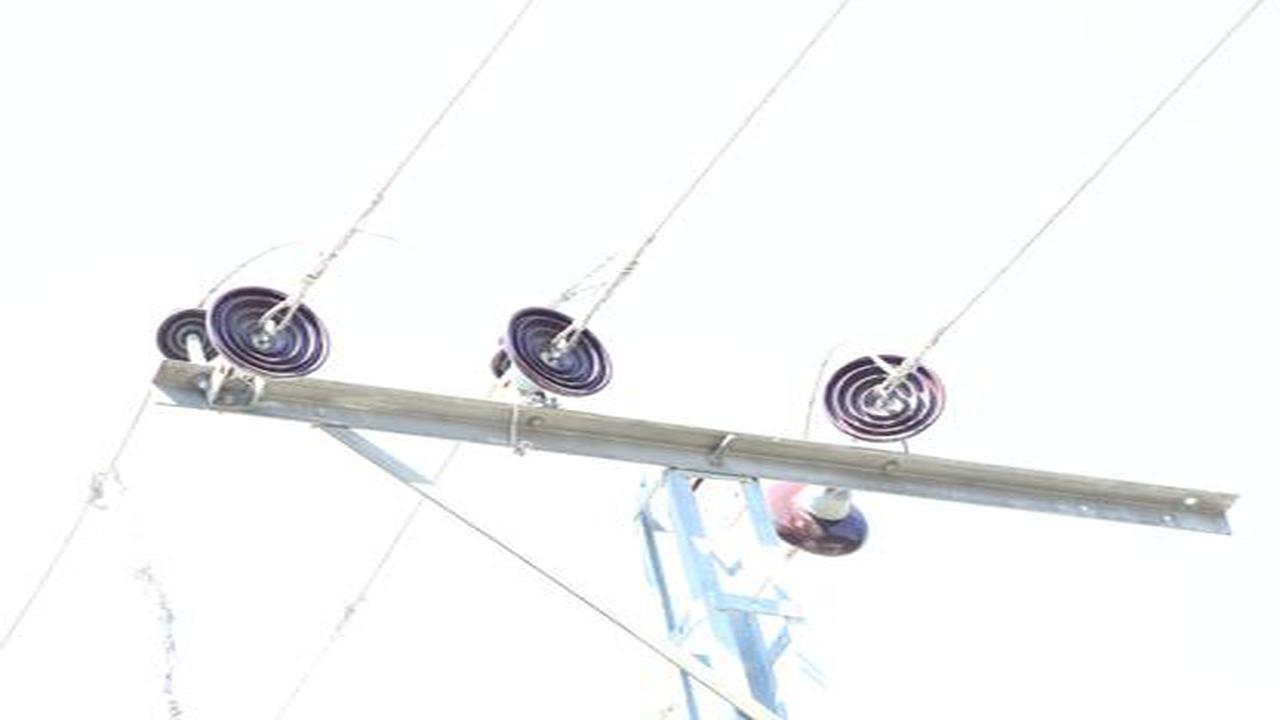insulator_disc: (206, 281, 335, 388), (823, 344, 945, 444), (501, 300, 619, 402), (764, 474, 881, 563)
